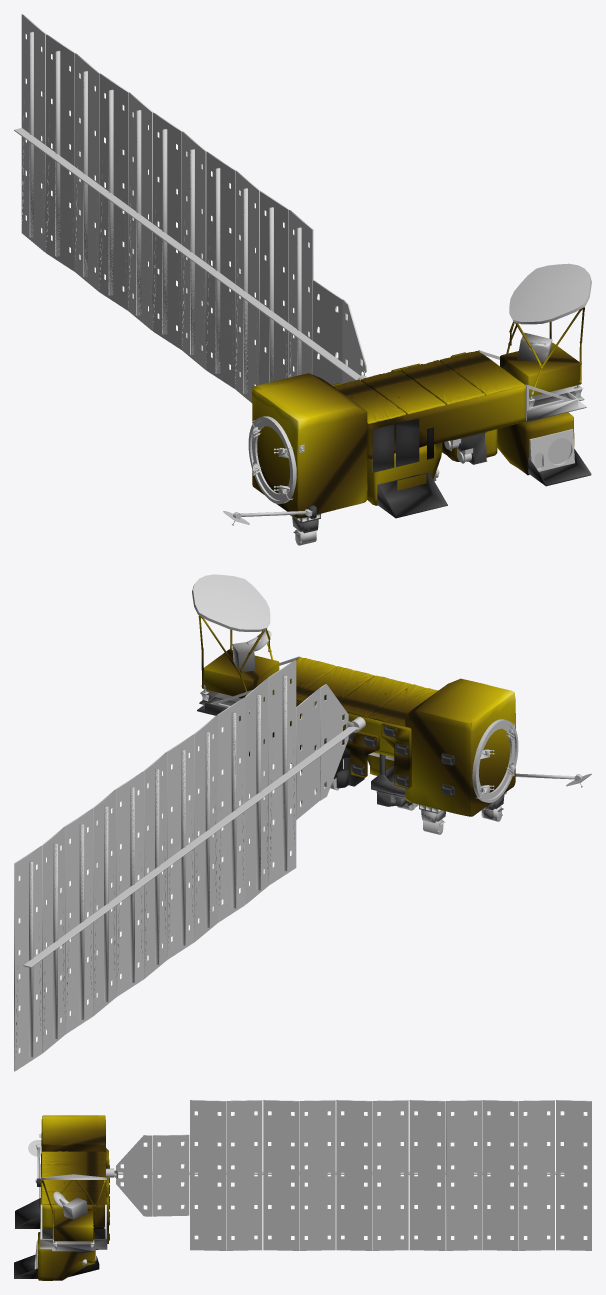
Rendered from aqua.glb.
The picture shows the model from 3 angles, top to bottom: view 1: azimuth 30°, elevation 25°; view 2: azimuth 150°, elevation 25°; view 3: azimuth 270°, elevation 25°; orthographic projection. The views are drawn at different scales.
Visible parts, largest first — view 1: tex_01, foil_gold, foil_silver, gold_2, shiny_panel; view 2: tex_01, foil_gold, shiny_panel, gold_2, foil_silver; view 3: shiny_panel, tex_01, foil_gold, gold_2, foil_silver.
Boxes of the visible parts, left/top/right/bottom form: tex_01: left=14, top=15, right=591, bottom=545; foil_gold: left=252, top=307, right=584, bottom=518; foil_silver: left=290, top=332, right=591, bottom=535; gold_2: left=333, top=351, right=524, bottom=423; shiny_panel: left=21, top=14, right=313, bottom=388; tex_01: left=15, top=574, right=591, bottom=1071; foil_gold: left=198, top=615, right=515, bottom=816; shiny_panel: left=14, top=660, right=295, bottom=1071; gold_2: left=272, top=657, right=438, bottom=726; foil_silver: left=197, top=642, right=506, bottom=822; shiny_panel: left=190, top=1100, right=591, bottom=1250; tex_01: left=28, top=1115, right=586, bottom=1269; foil_gold: left=37, top=1115, right=108, bottom=1280; gold_2: left=41, top=1151, right=105, bottom=1204; foil_silver: left=14, top=1148, right=109, bottom=1278.
Bounding box in the file's own units: 9.4 × 5.08 × 17.78.
5 materials, 2 textured.
